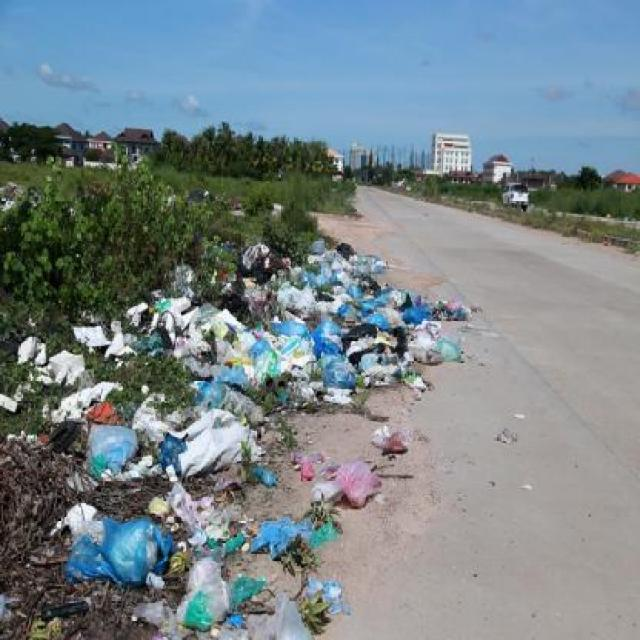plastic bag: (118, 228, 490, 428), (143, 436, 392, 638), (59, 514, 172, 589), (150, 415, 252, 477), (177, 549, 245, 626), (83, 421, 135, 474), (131, 589, 175, 625), (369, 424, 408, 454)
